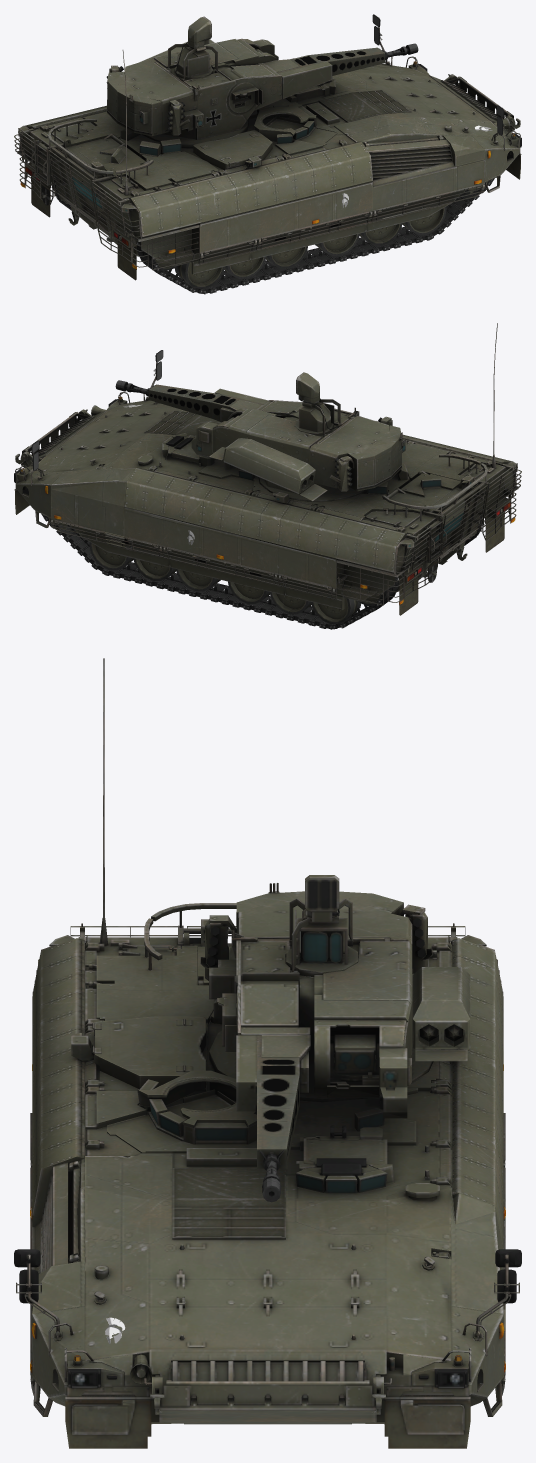
The model's file is spz_puma.glb.
3 renders of one model, top to bottom at view 1: azimuth 30°, elevation 25°; view 2: azimuth 150°, elevation 25°; view 3: azimuth 270°, elevation 25°, orthographic. The views are drawn at different scales.
Parts seen in each view (by area): view 1: body, turret, engine, gun, trackr, doorback1, wheel_r_7, wheel_r_2, wheel_r_4, wheel_r_3, wheel_r_6, wheel_r_5; view 2: body, turret, engine, trackl, gun, spike_lr, doorback1, wheel_l_7, wheel_l_2, wheel_l_4, wheel_l_3, wheel_l_5 (+2 smaller); view 3: body, engine, turret, gun, spike_lr, cover.
Boxes of the visible parts, x1=… form: body: x1=14, y1=14, x2=521, y2=280; turret: x1=106, y1=16, x2=278, y2=148; engine: x1=318, y1=72, x2=489, y2=122; gun: x1=220, y1=43, x2=418, y2=113; trackr: x1=137, y1=178, x2=494, y2=294; doorback1: x1=48, y1=148, x2=117, y2=244; wheel_r_7: x1=174, y1=262, x2=224, y2=288; wheel_r_2: x1=402, y1=207, x2=446, y2=234; wheel_r_4: x1=315, y1=233, x2=359, y2=255; wheel_r_3: x1=359, y1=223, x2=402, y2=245; wheel_r_6: x1=224, y1=256, x2=266, y2=278; wheel_r_5: x1=266, y1=246, x2=307, y2=268; body: x1=14, y1=350, x2=521, y2=615; turret: x1=191, y1=372, x2=405, y2=501; engine: x1=46, y1=407, x2=220, y2=456; trackl: x1=41, y1=514, x2=398, y2=629; gun: x1=115, y1=380, x2=302, y2=422; spike_lr: x1=209, y1=438, x2=327, y2=501; doorback1: x1=418, y1=483, x2=487, y2=580; wheel_l_7: x1=311, y1=591, x2=361, y2=623; wheel_l_2: x1=89, y1=542, x2=133, y2=570; wheel_l_4: x1=176, y1=569, x2=220, y2=591; wheel_l_3: x1=133, y1=558, x2=176, y2=580; wheel_l_5: x1=228, y1=581, x2=270, y2=603; body: x1=14, y1=903, x2=521, y2=1448; engine: x1=149, y1=1168, x2=386, y2=1349; turret: x1=200, y1=875, x2=434, y2=1118; gun: x1=217, y1=981, x2=310, y2=1202; spike_lr: x1=412, y1=967, x2=470, y2=1061; cover: x1=306, y1=1139, x2=387, y2=1164.
Size of what is drawn, in the model's own units: 146 by 84.73 by 77.95.
34 materials, 34 textured.
